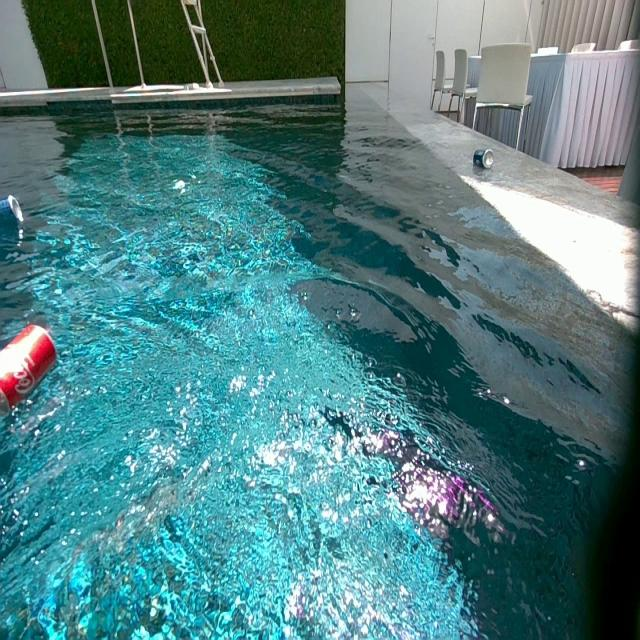Cans: (0, 323, 56, 427), (0, 195, 24, 227), (474, 150, 495, 170)
